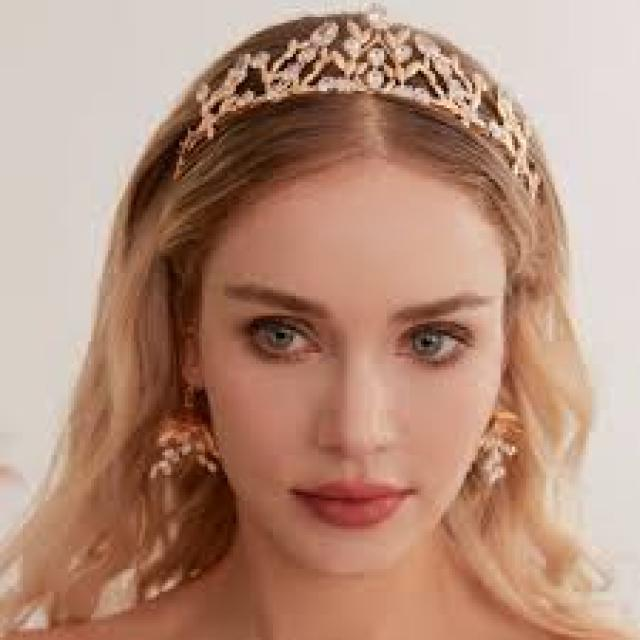Earring: (136, 323, 228, 508), (454, 383, 540, 499)
